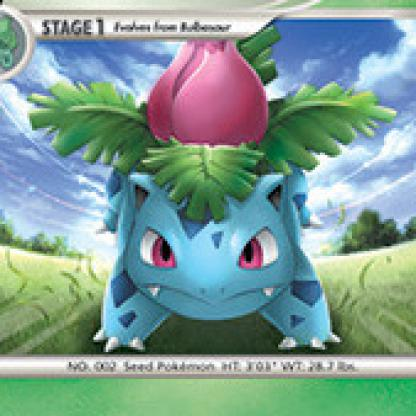Ivysaur: (29, 29, 366, 360)
